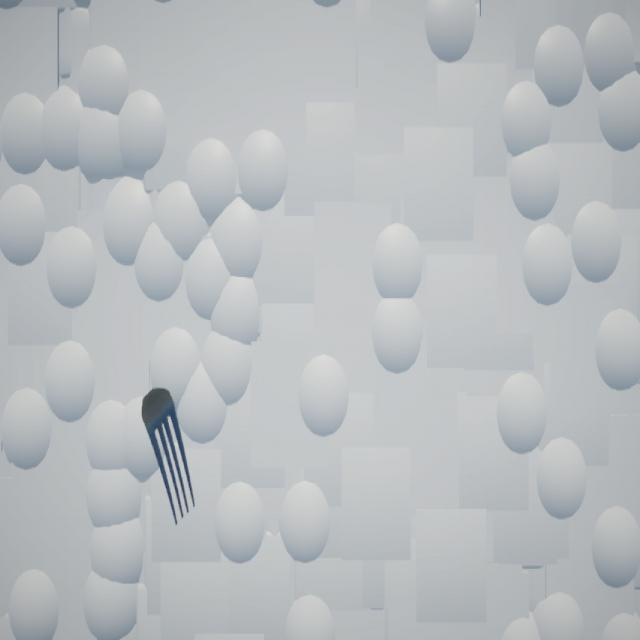top_folk: (142, 388, 196, 526)
